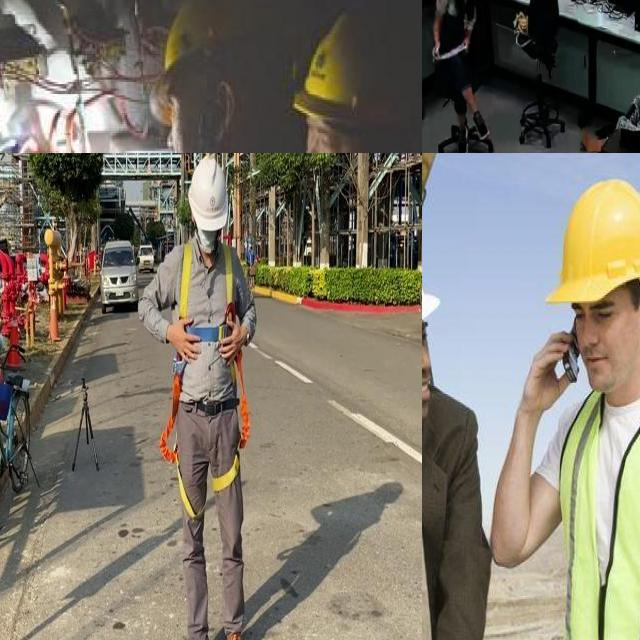Harness: (158, 348, 251, 520), (179, 242, 238, 343)
face_nomask: (568, 300, 625, 377), (422, 318, 443, 416), (297, 115, 351, 153)
hand_noglove: (540, 172, 640, 308), (518, 328, 584, 410), (459, 33, 471, 55), (431, 37, 441, 63)
head_helmet: (288, 2, 422, 129), (155, 0, 314, 86)
person: (491, 174, 640, 640), (422, 222, 497, 640), (429, 0, 492, 147)
shoes: (470, 107, 492, 146), (454, 121, 469, 153)
vest: (555, 366, 640, 640)
